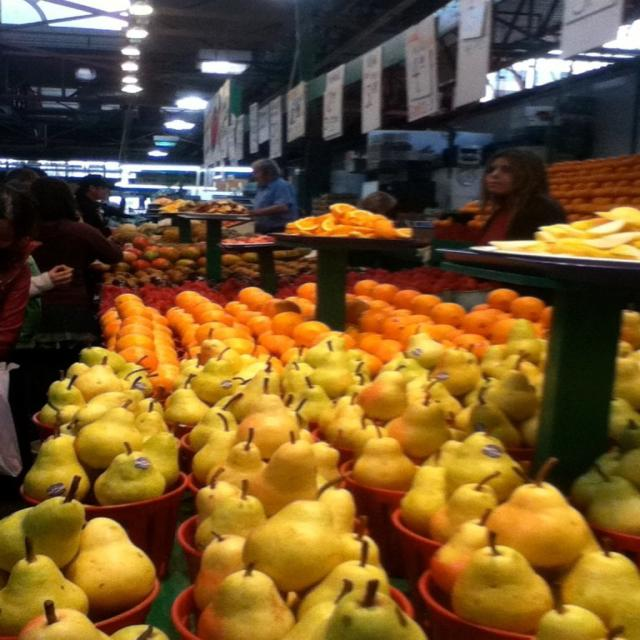pear: (0, 308, 638, 639)
